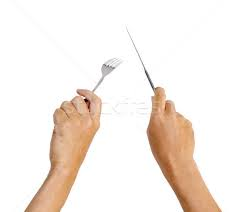knife: (123, 22, 171, 133)
